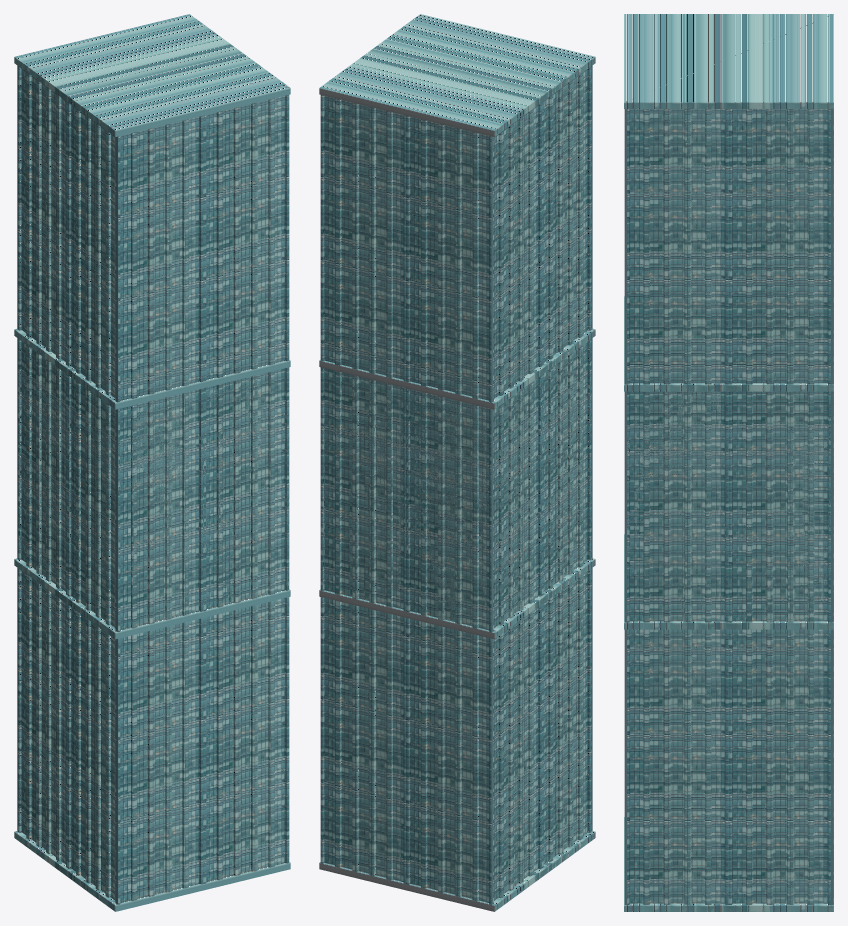
Rendered from building 5.obj.
3 views of the same model, side by side, from view 1: azimuth 30°, elevation 25°; view 2: azimuth 150°, elevation 25°; view 3: azimuth 270°, elevation 25° (orthographic). The views are drawn at different scales.
Parts seen in each view (by area): view 1: Cube.002_Mesh, Cube.001_Mesh; view 2: Cube.002_Mesh, Cube.001_Mesh; view 3: Cube.002_Mesh, Cube.001_Mesh.
Part boxes in pixels (x1,y1,x2,y2): Cube.002_Mesh: [14, 14, 290, 639]; Cube.001_Mesh: [14, 328, 290, 911]; Cube.002_Mesh: [319, 14, 595, 639]; Cube.001_Mesh: [319, 328, 595, 911]; Cube.002_Mesh: [624, 14, 833, 629]; Cube.001_Mesh: [624, 296, 833, 911].
Bounding box in the file's own units: 6.73 × 28.65 × 6.73.
Materials: 2 (2 with a texture image).
